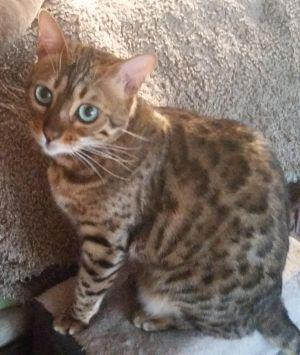bengal: (21, 8, 162, 166)
